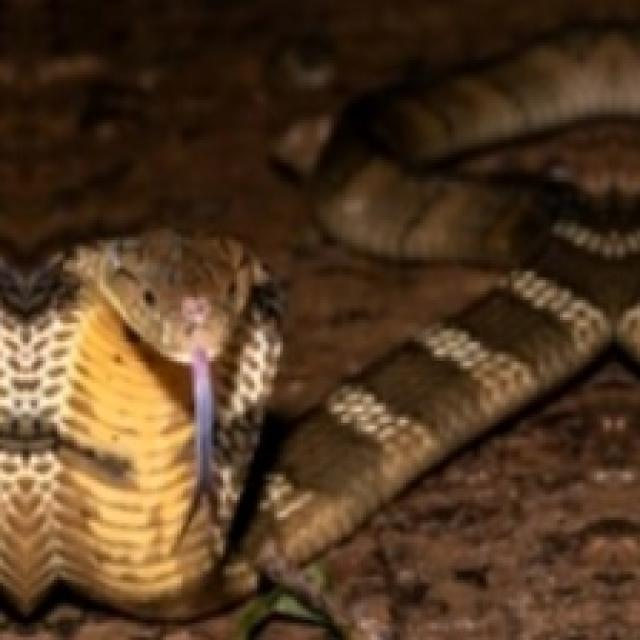king cobra: (0, 0, 637, 637), (237, 29, 637, 617), (0, 229, 280, 609), (380, 377, 637, 626)
